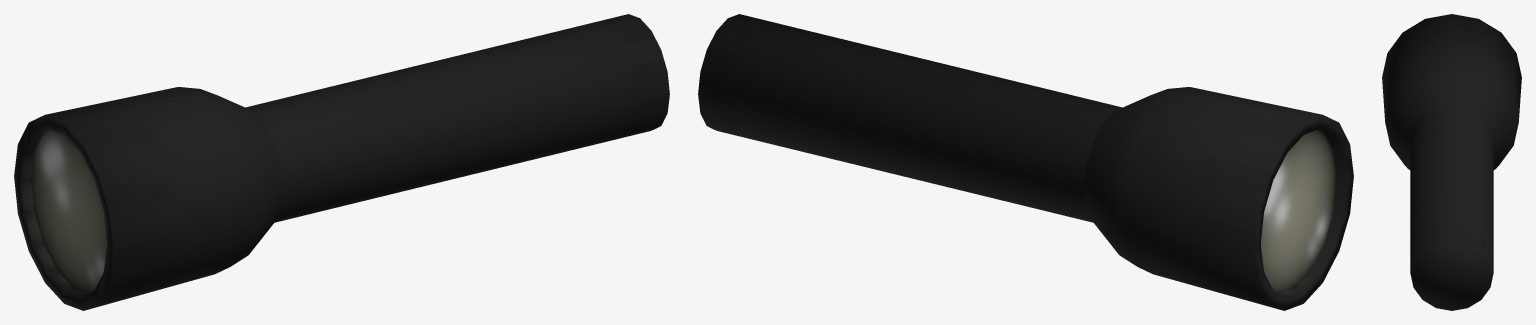
The model's file is Torch.glb.
The picture shows the model from 3 angles, left to right: view 1: azimuth 30°, elevation 25°; view 2: azimuth 150°, elevation 25°; view 3: azimuth 270°, elevation 25°; orthographic projection. The views are drawn at different scales.
Parts seen in each view (by area): view 1: Cylinder.006; view 2: Cylinder.006; view 3: Cylinder.006.
Part boxes in pixels (x1,y1,x2,y2): Cylinder.006: (14, 14, 669, 310); Cylinder.006: (698, 14, 1353, 310); Cylinder.006: (1382, 14, 1521, 310).
Bounding box in the file's own units: 1.32 × 0.4 × 0.4.
Materials: 1 (1 with a texture image).
